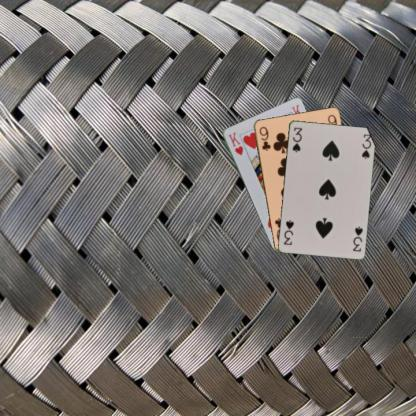3s: (289, 125, 304, 153), (350, 223, 364, 252)
9c: (256, 124, 272, 152)
Kh: (226, 130, 244, 156)
